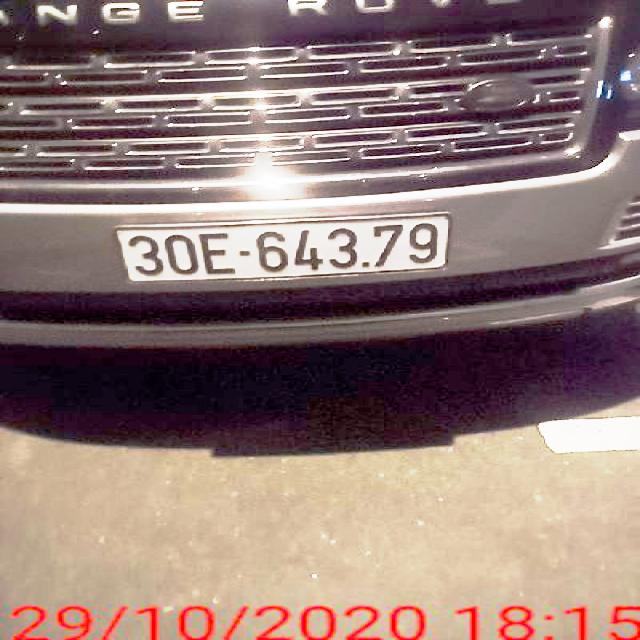license_plate: (114, 213, 449, 284)
